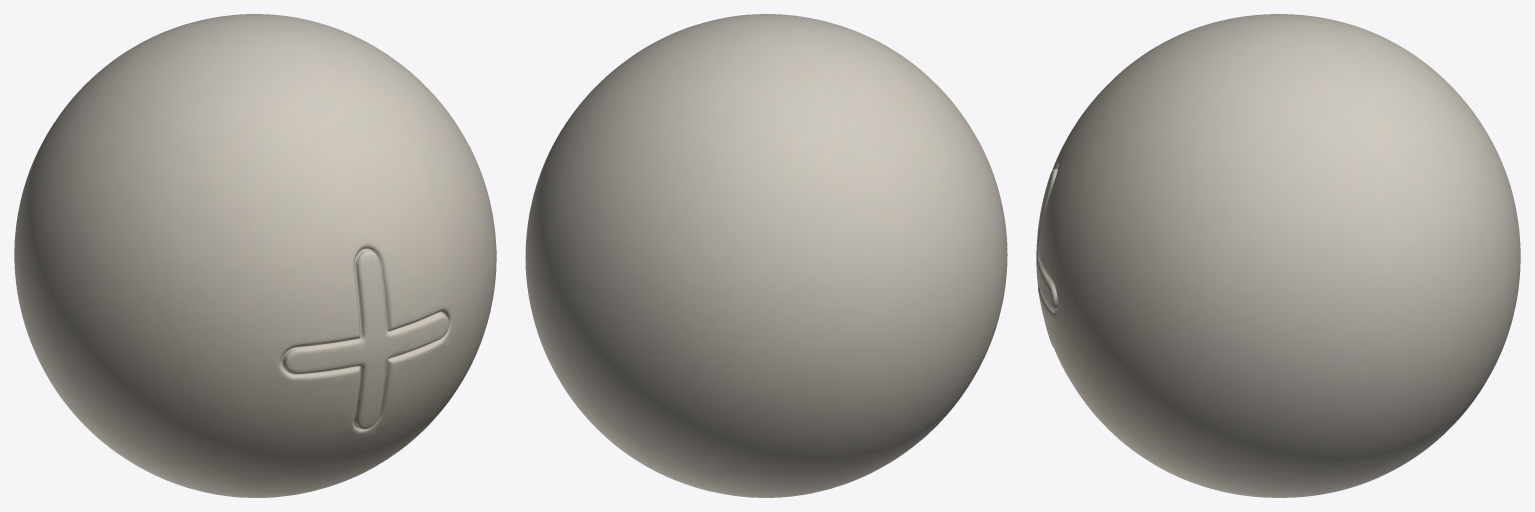
3 views of the same model, side by side, from view 1: azimuth 30°, elevation 25°; view 2: azimuth 150°, elevation 25°; view 3: azimuth 270°, elevation 25° (orthographic).
Visible parts, largest first — view 1: node_0; view 2: node_0; view 3: node_0.
Boxes of the visible parts, x1,y1,x2,y2 form: node_0: [14, 14, 496, 497]; node_0: [525, 14, 1007, 497]; node_0: [1036, 14, 1520, 497].
Bounding box in the file's own units: 1.17 × 1.18 × 1.18.
1 material, 1 textured.
